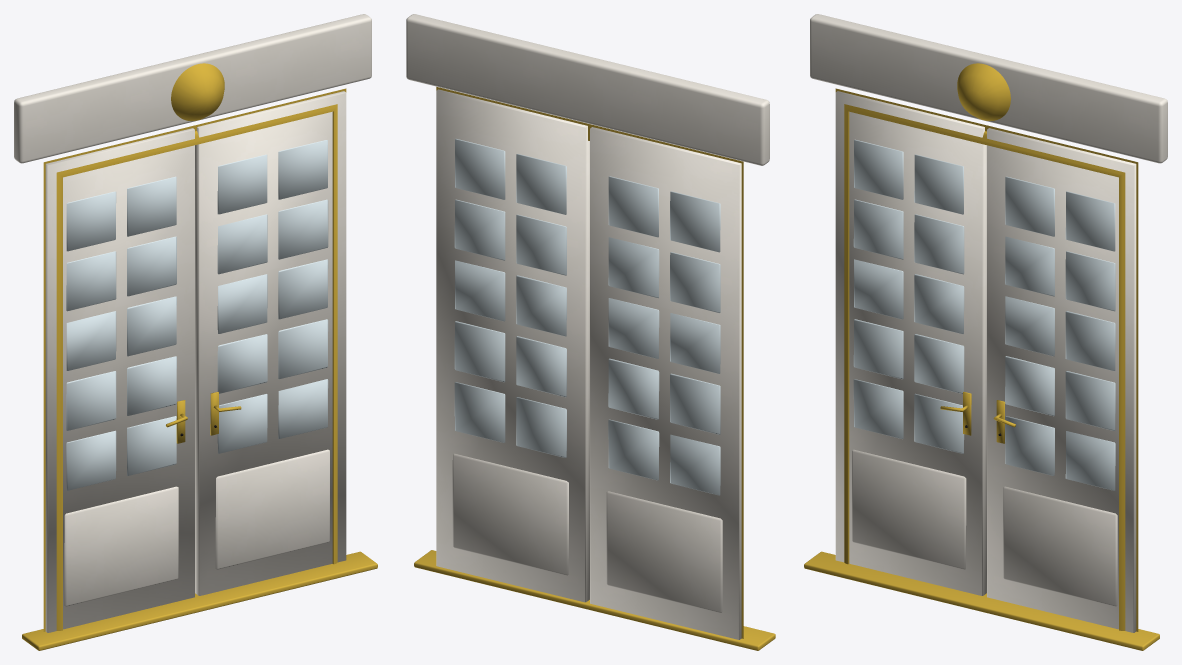
The model's file is porta-salao-dupla-medio.glb.
3 views of the same model, side by side, from view 1: azimuth 30°, elevation 25°; view 2: azimuth 150°, elevation 25°; view 3: azimuth 330°, elevation 25° (orthographic).
Parts seen in each view (by area): view 1: folha-dir, folha-esq, porta-salao-bandeira, porta-salao-batente, porta-salao-soleira, porta-salao-concha; view 2: folha-dir, folha-esq, porta-salao-bandeira, porta-salao-soleira, porta-salao-batente; view 3: folha-esq, folha-dir, porta-salao-bandeira, porta-salao-batente, porta-salao-soleira, porta-salao-concha.
Part boxes in pixels (bbox=[...]): folha-dir: bbox=[195, 91, 346, 595]; folha-esq: bbox=[45, 128, 194, 632]; porta-salao-bandeira: bbox=[14, 14, 371, 163]; porta-salao-batente: bbox=[43, 88, 346, 631]; porta-salao-soleira: bbox=[22, 551, 377, 650]; porta-salao-concha: bbox=[171, 63, 224, 121]; folha-dir: bbox=[436, 89, 589, 602]; folha-esq: bbox=[590, 127, 741, 639]; porta-salao-bandeira: bbox=[406, 14, 769, 165]; porta-salao-soleira: bbox=[414, 550, 775, 650]; porta-salao-batente: bbox=[436, 87, 743, 638]; folha-esq: bbox=[835, 91, 986, 595]; folha-dir: bbox=[987, 128, 1136, 632]; porta-salao-bandeira: bbox=[810, 14, 1167, 163]; porta-salao-batente: bbox=[835, 88, 1138, 631]; porta-salao-soleira: bbox=[804, 551, 1159, 650]; porta-salao-concha: bbox=[957, 63, 1010, 120].
Size of the model in its own units: 2.1 by 3.07 by 0.2.
Materials: 5 (3 with a texture image).
